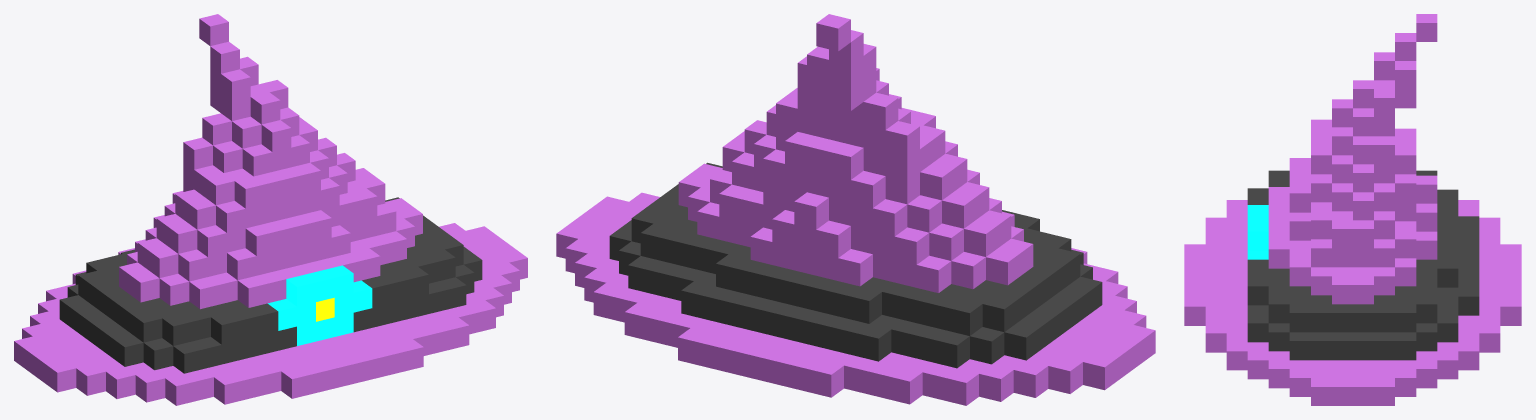
Rendered from accessories_head_wizardhat.glb.
The picture shows the model from 3 angles, left to right: view 1: azimuth 30°, elevation 25°; view 2: azimuth 150°, elevation 25°; view 3: azimuth 270°, elevation 25°; orthographic projection. The views are drawn at different scales.
Parts seen in each view (by area): view 1: model_0; view 2: model_0; view 3: model_0.
Part boxes in pixels (left/top/right/bottom): model_0: left=14, top=14, right=527, bottom=405; model_0: left=556, top=14, right=1155, bottom=405; model_0: left=1184, top=14, right=1521, bottom=405.
Size of the model in its own units: 25 by 14 by 16.
